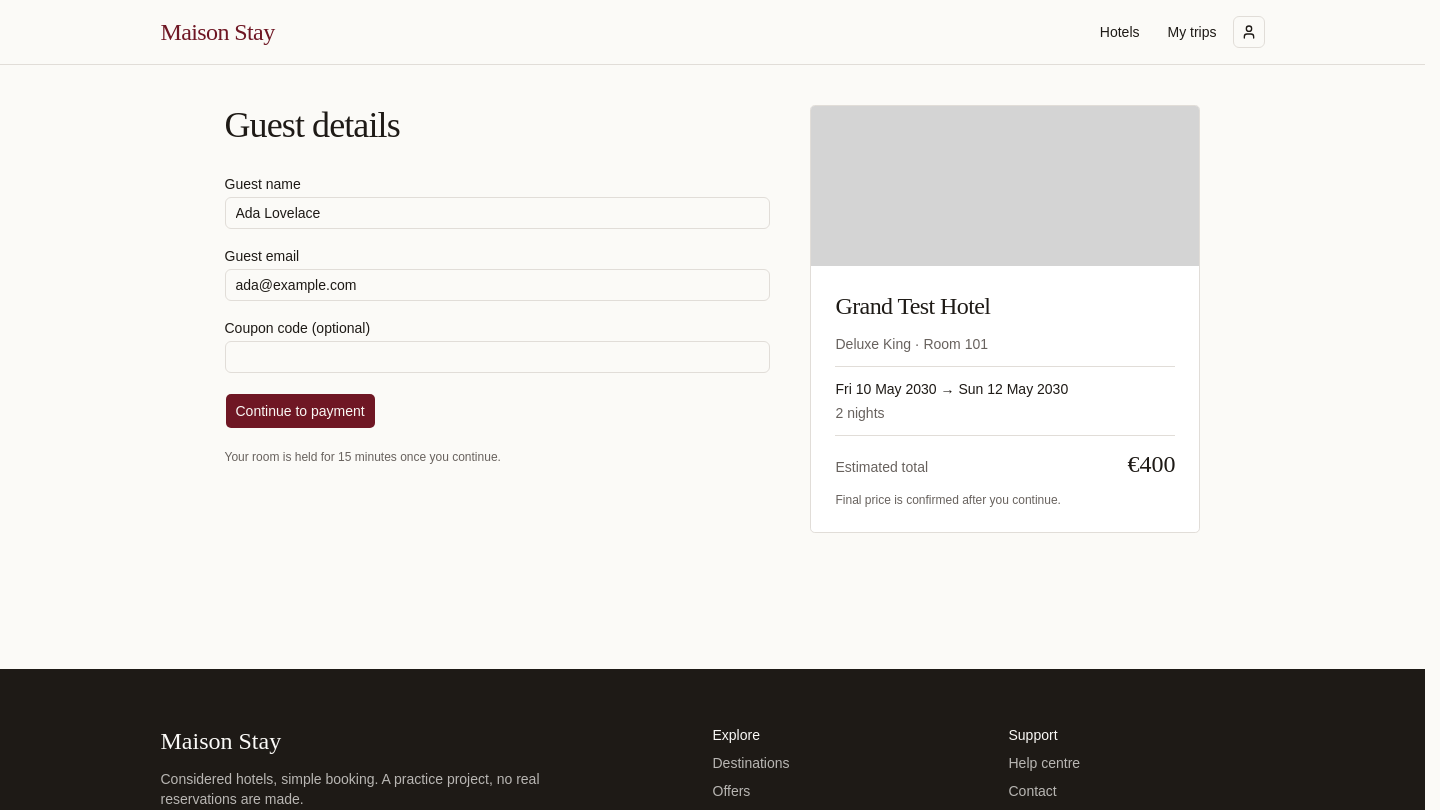
booking journey › shows the server message when the room was taken in the meantime
This screenshot has width=1440, height=810.
Click the button "Continue to payment" at (300, 411), box [224,393,376,429]
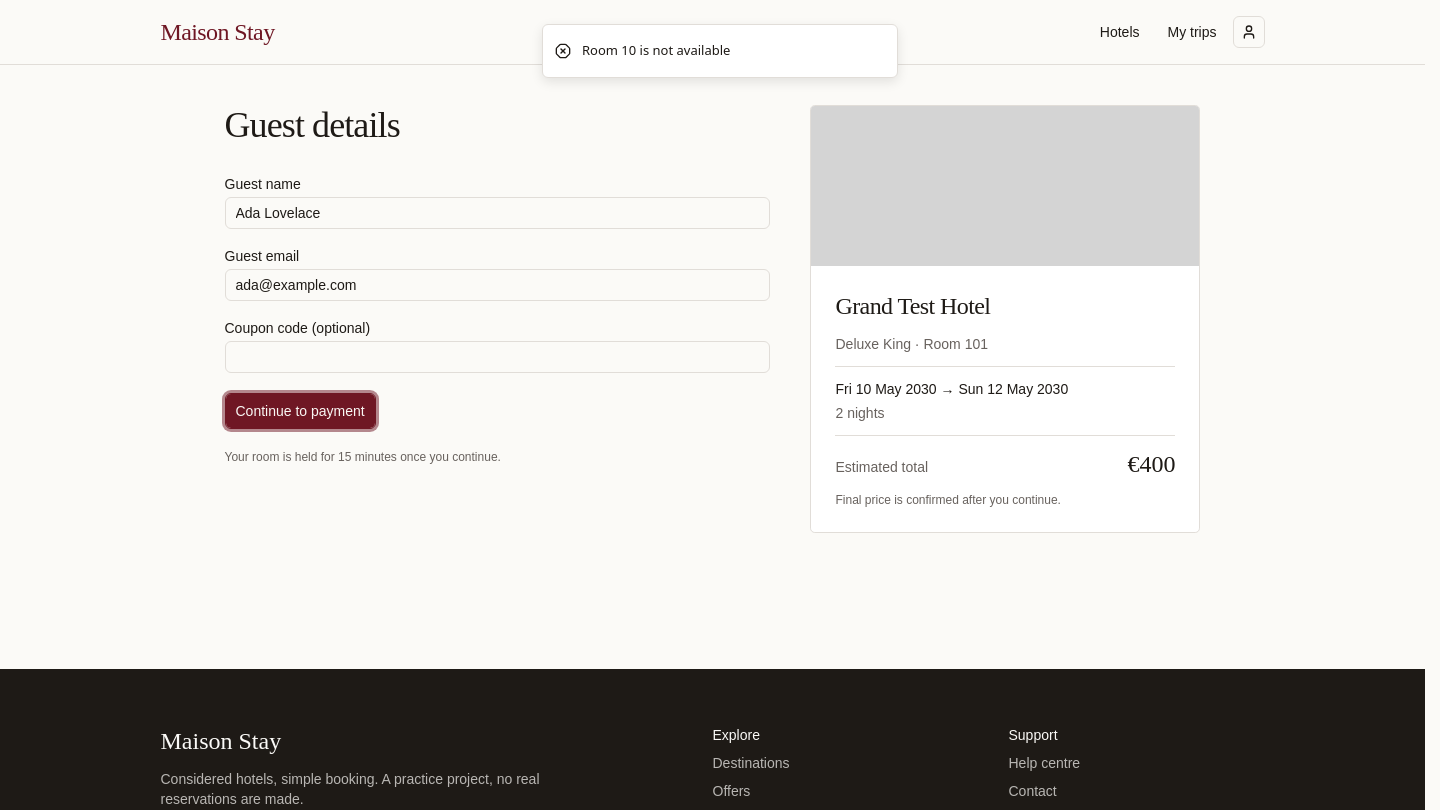
Expected: the heading "Guest details" is shown, [224,105,400,145]
Expected: the text "Room 10 is not available" is shown, [582,41,730,60]
